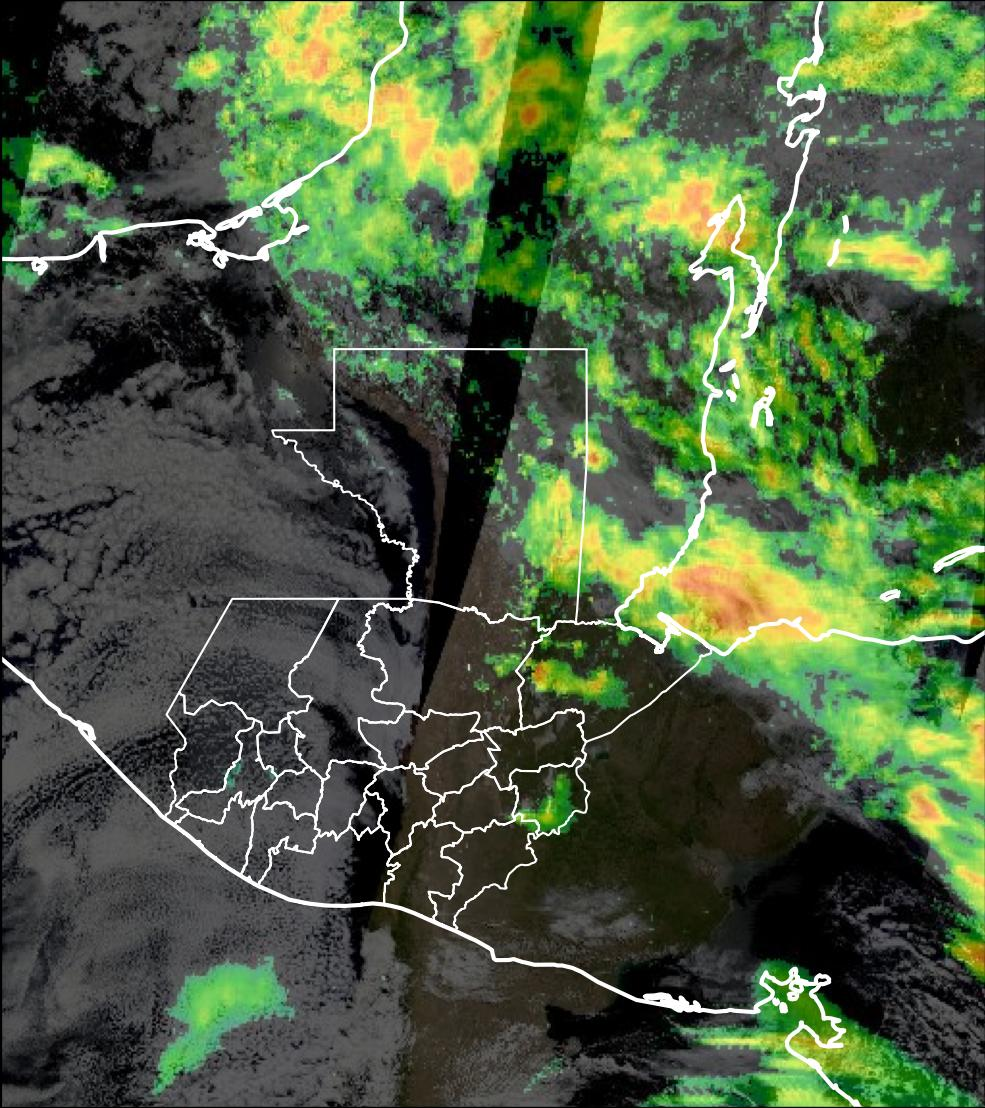precipitacion: (376, 76, 487, 194), (676, 562, 822, 632), (270, 5, 357, 89)
